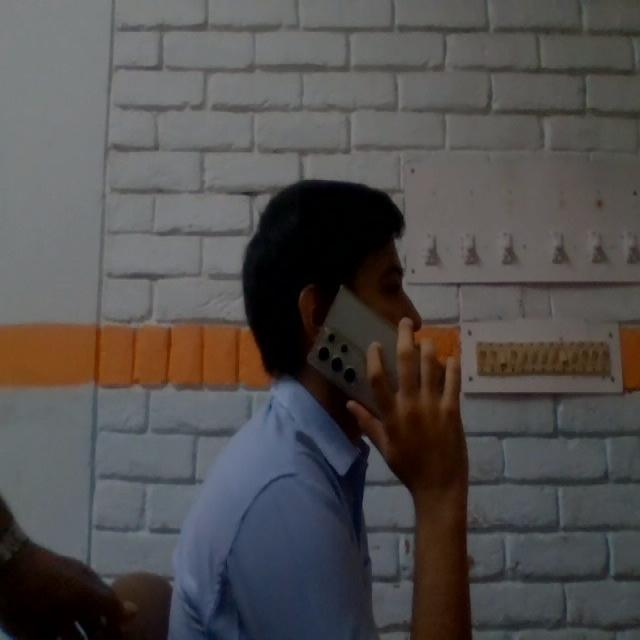oncall: (159, 179, 488, 640)
phone: (307, 284, 459, 443)
